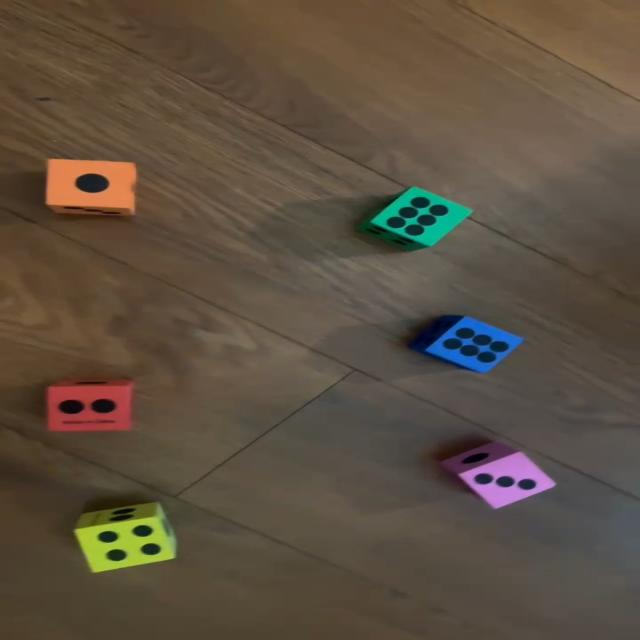blue_block: (418, 314, 522, 374)
red_block: (48, 380, 138, 432)
